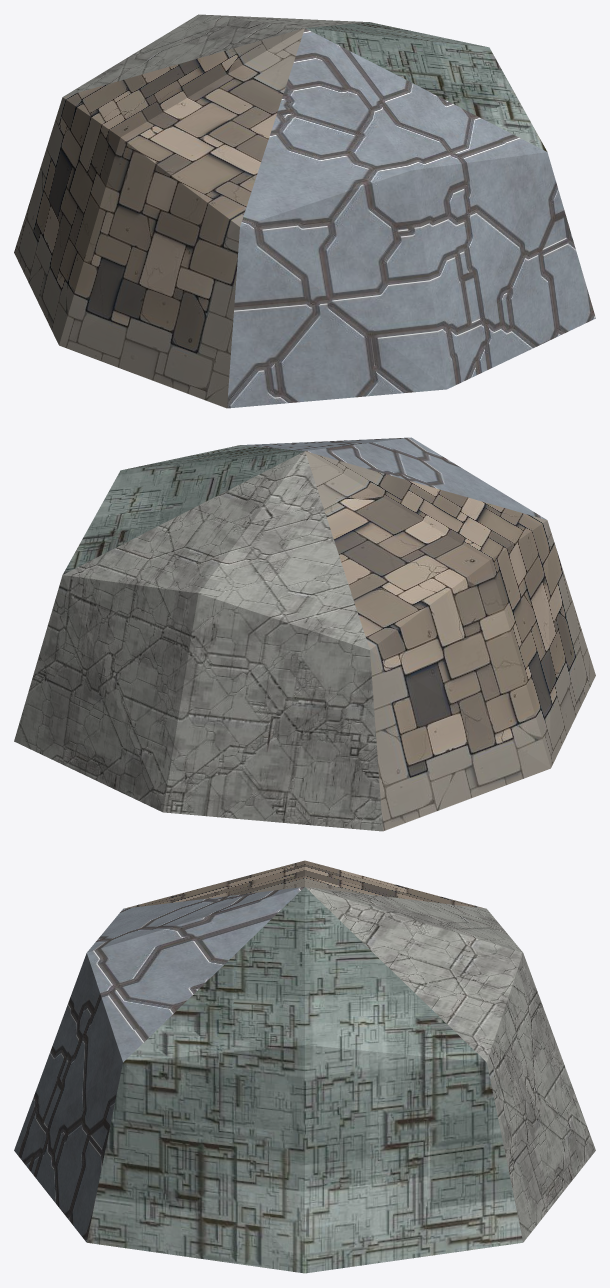
The model's file is wall.obj.
3 renders of one model, top to bottom at view 1: azimuth 30°, elevation 25°; view 2: azimuth 150°, elevation 25°; view 3: azimuth 270°, elevation 25°, orthographic. The views are drawn at different scales.
Visible parts, largest first — view 1: Cube; view 2: Cube; view 3: Cube.
Part boxes in pixels (x1,y1,x2,y2): Cube: (14,14,595,408); Cube: (14,437,595,831); Cube: (14,860,595,1273).
Bounding box in the file's own units: 8 × 4 × 8.
4 materials, 4 textured.
